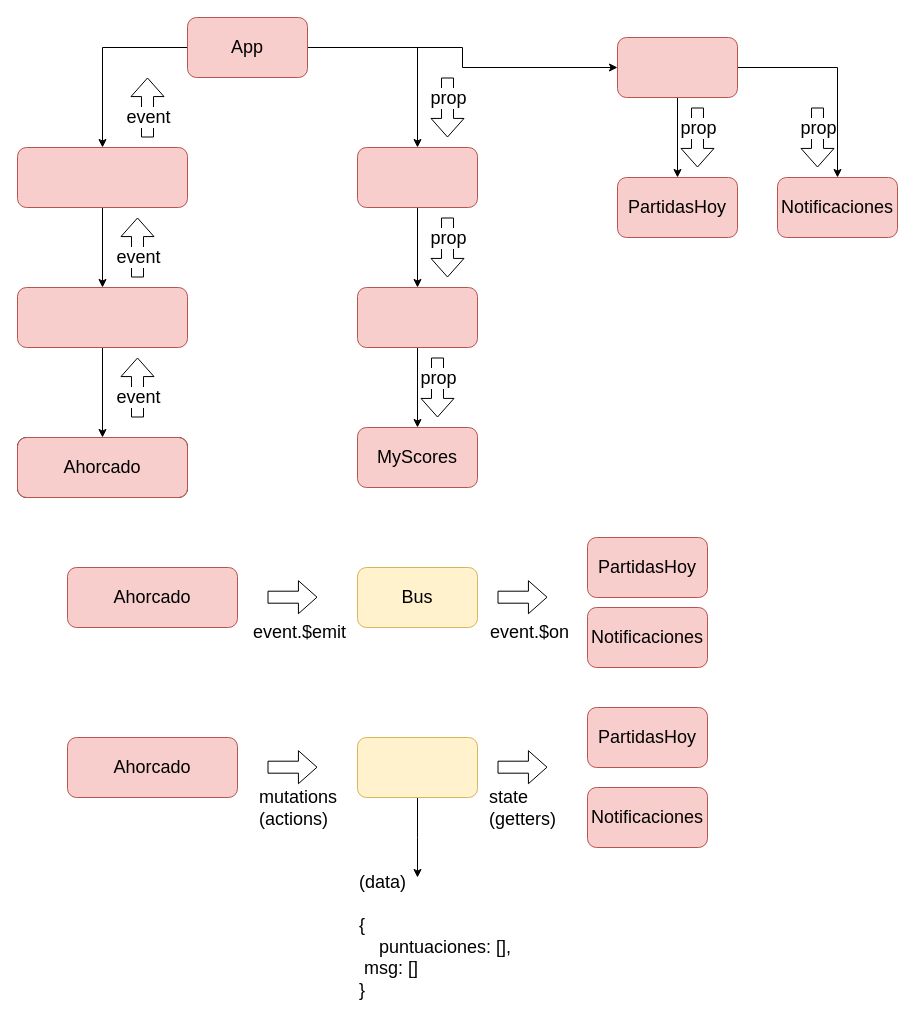
This 915x1019 diagram has some shape labels left out. The centre of each missing label's shape, as x and y in pixels:
"Menu" belongs at [677,67].
"Profile" belongs at [417,177].
"Statistics" belongs at [417,317].
"VideoGameList" belongs at [102,317].
"VideoGameView" belongs at [102,177].
"Vuex" belongs at [417,767].
